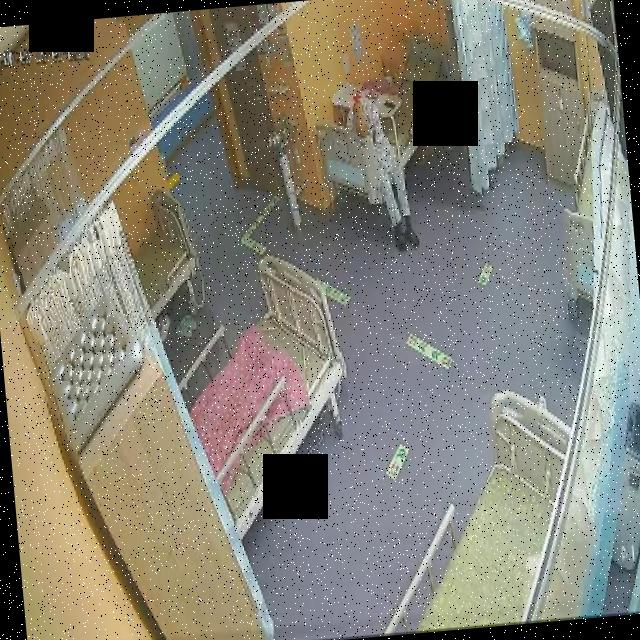bed: (364, 382, 588, 636), (177, 252, 354, 537), (310, 34, 460, 208), (126, 188, 202, 322)
patient: (344, 90, 422, 256)
sit: (344, 90, 422, 255)
